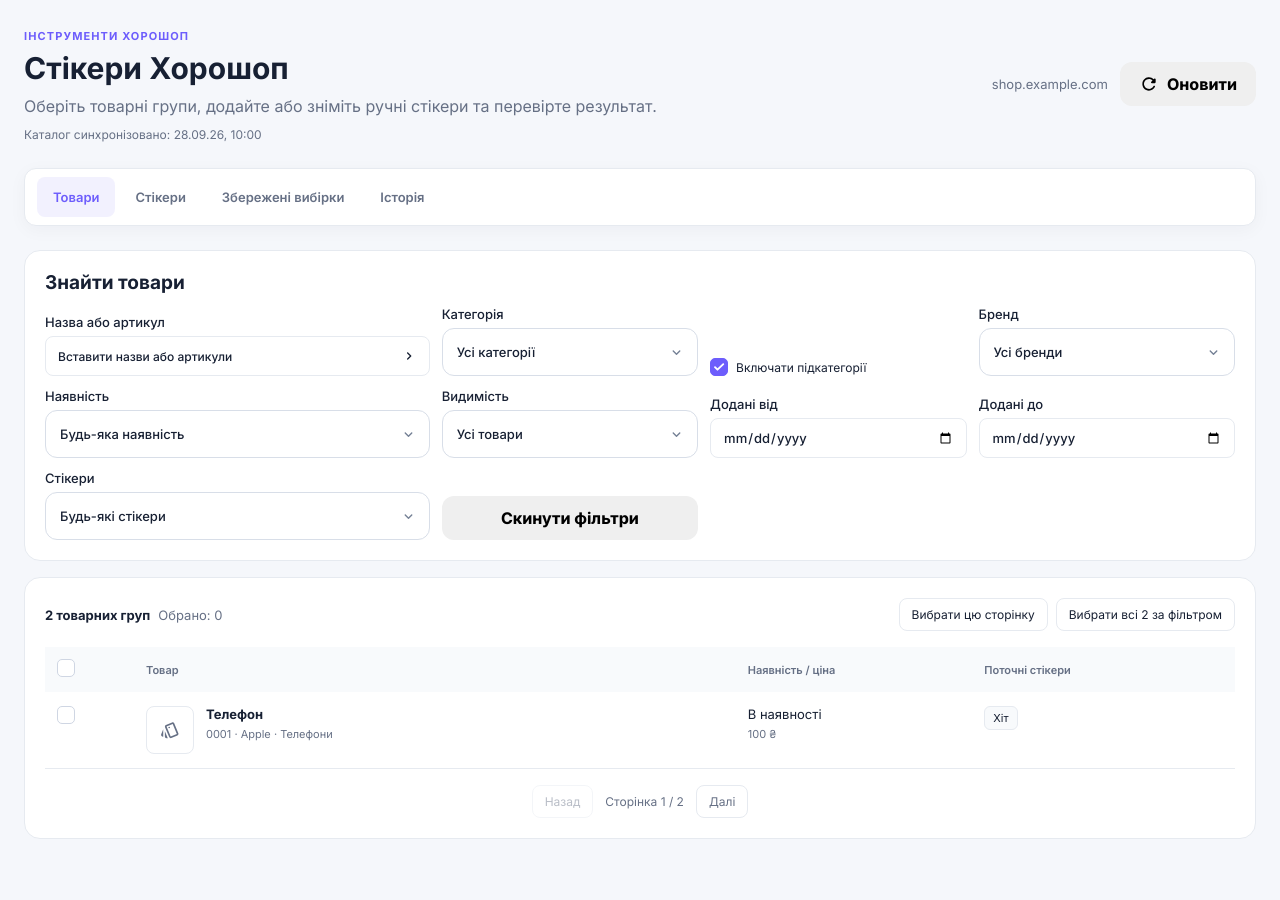
HoroshopStickersPage › shows a useful empty directory state without a configuration step
The width and height of the screenshot is (1280, 900).
Click the checkbox named "Обрати 0001" at coordinates (66, 715), box [57, 706, 75, 724]
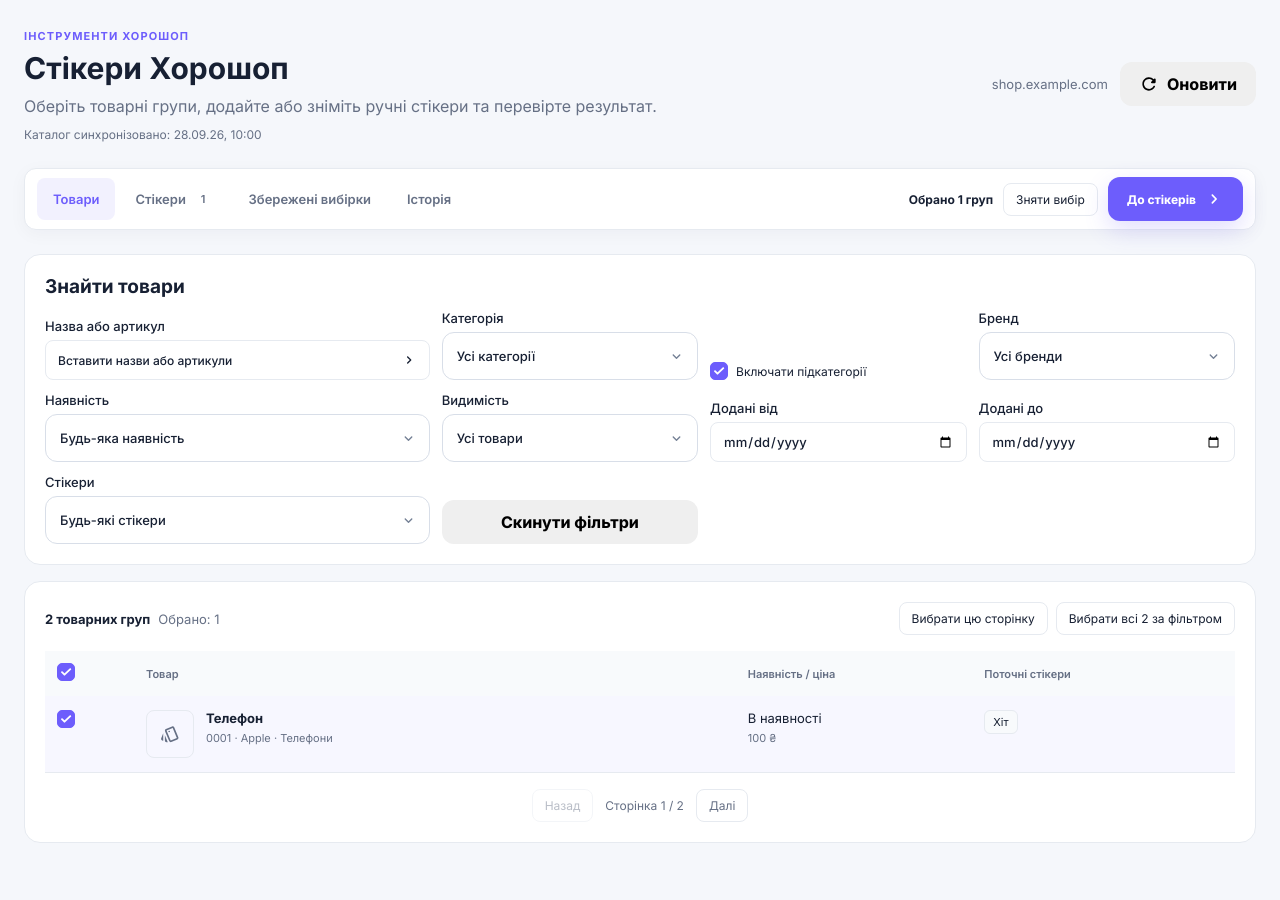
Click the tab "Стікери 1" at coordinates (174, 199), box [120, 178, 228, 220]
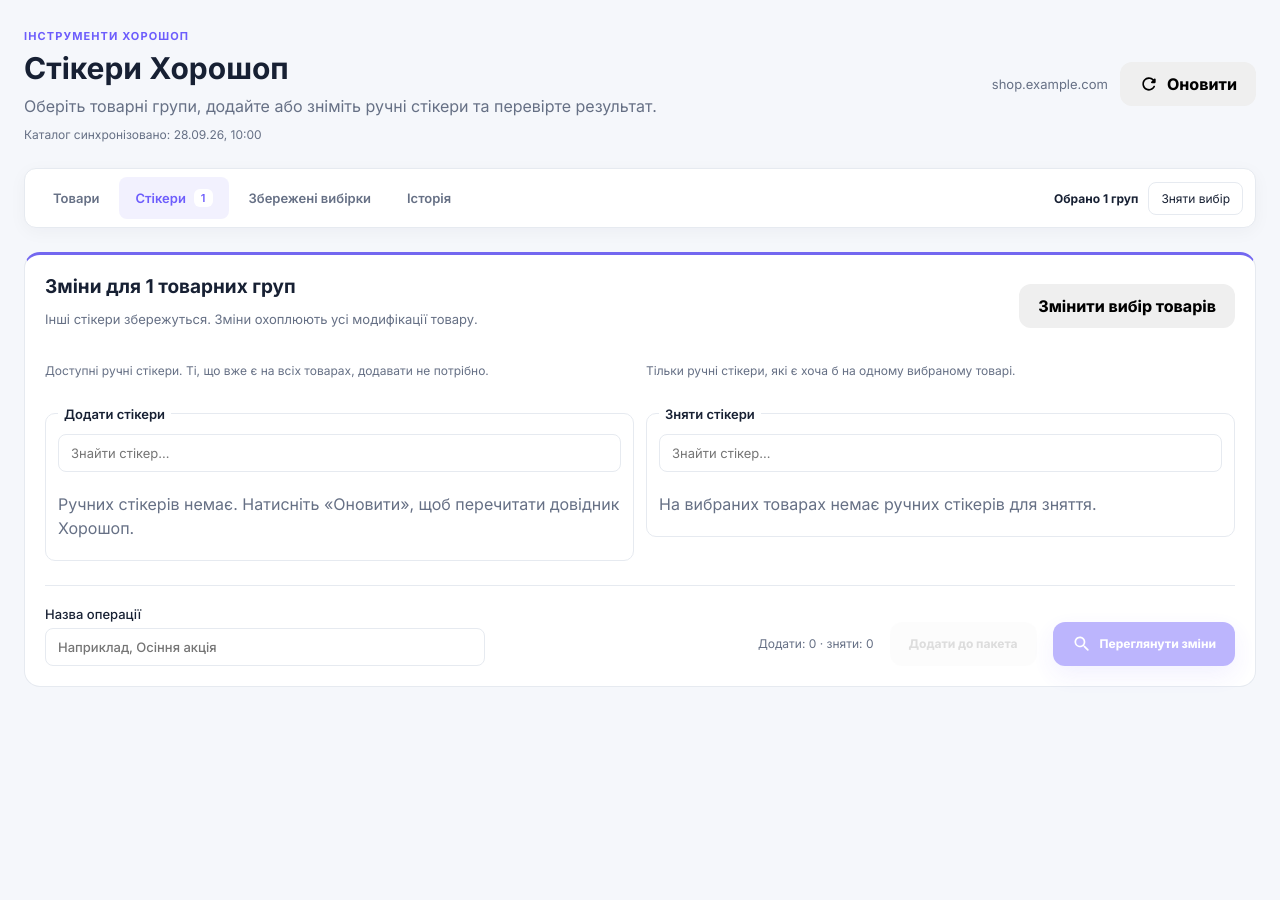
Check: the text "Ручних стікерів немає. Натисніть «Оновити», щоб перечитати довідник Хорошоп." is shown, box [58, 492, 621, 540]
Check: the button "Будь-які стікери" is gone
Check: the button "Переглянути зміни" is disabled, box [1052, 622, 1235, 666]
